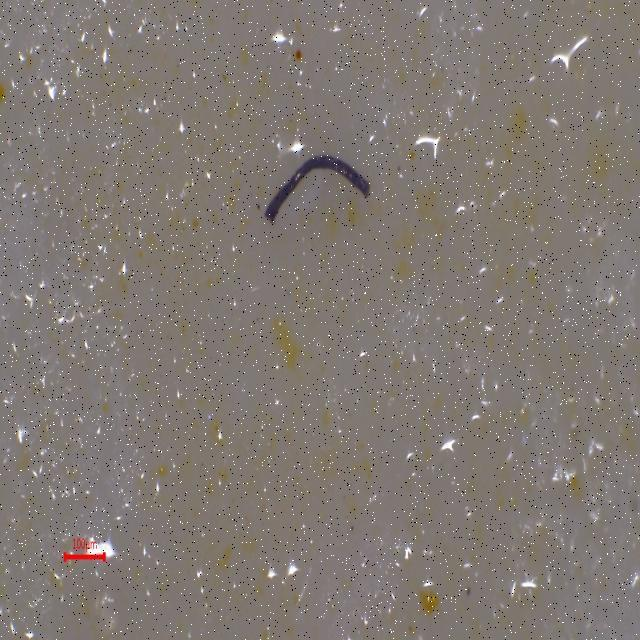Fibre: (258, 156, 374, 228)
